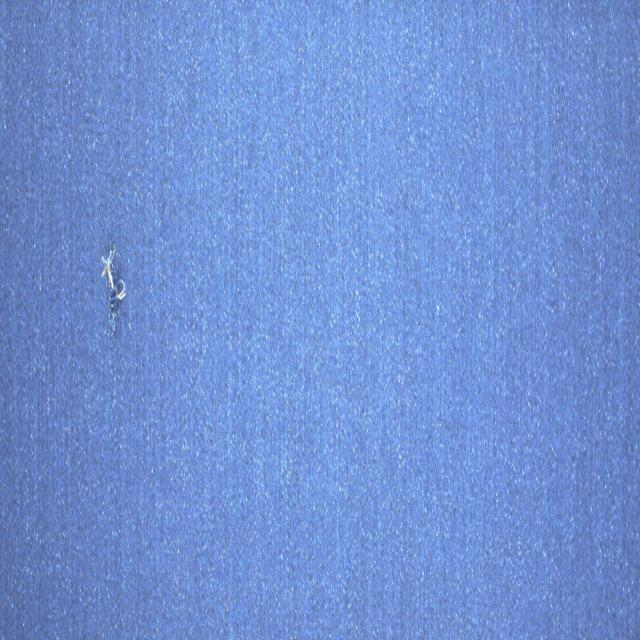Hole: (100, 244, 127, 335)
